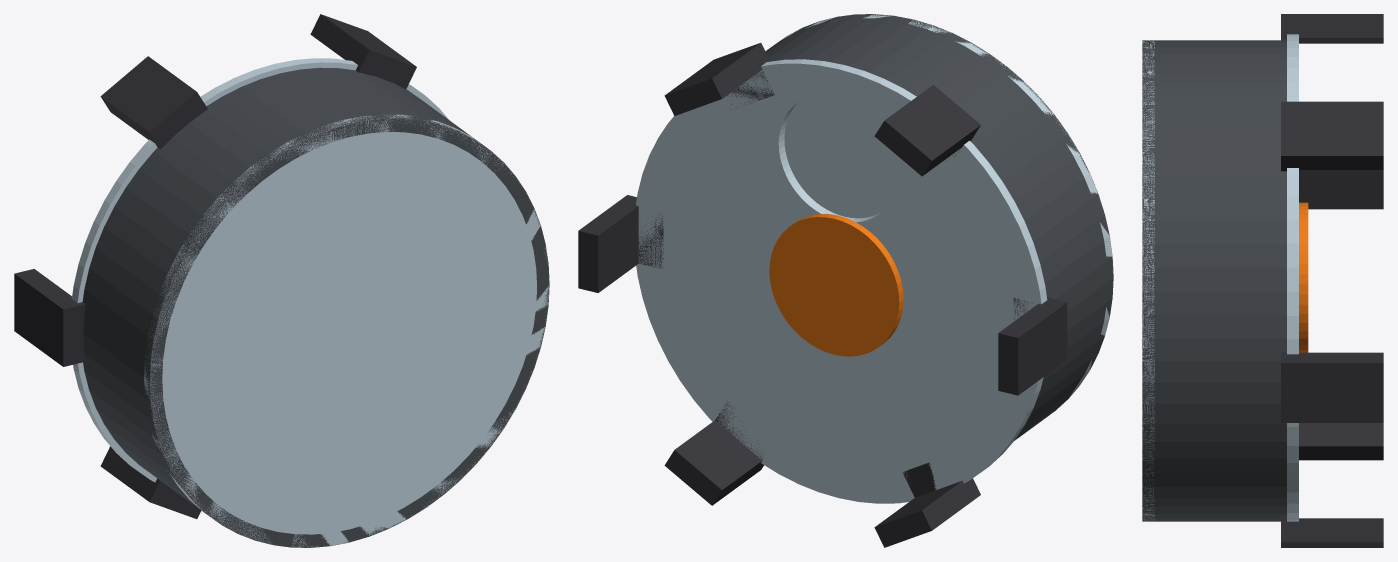
The model's file is housing.obj.
3 renders of one model, left to right at view 1: azimuth 30°, elevation 25°; view 2: azimuth 150°, elevation 25°; view 3: azimuth 270°, elevation 25°, orthographic. The views are drawn at different scales.
Parts seen in each view (by area): view 1: PlateMetal_part, DrumMetal_part, ClampBracket_part; view 2: PlateMetal_part, DrumMetal_part, ClampBracket_part, OrangeHub_part; view 3: DrumMetal_part, ClampBracket_part, PlateMetal_part, OrangeHub_part.
Part boxes in pixels (box(x1,y1,x2,y2)): PlateMetal_part: box(72, 58, 549, 547); DrumMetal_part: box(82, 67, 549, 547); ClampBracket_part: box(14, 14, 416, 518); PlateMetal_part: box(636, 14, 1112, 503); DrumMetal_part: box(765, 14, 1113, 440); ClampBracket_part: box(578, 43, 1067, 547); OrangeHub_part: box(769, 214, 903, 356); DrumMetal_part: box(1142, 40, 1286, 521); ClampBracket_part: box(1281, 14, 1383, 547); PlateMetal_part: box(1142, 34, 1298, 521); OrangeHub_part: box(1299, 202, 1308, 352).
Size of the model in its own units: 0.176 by 0.164 by 0.08.
